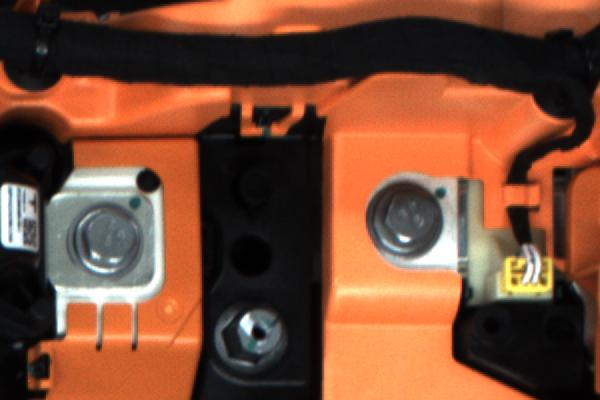nut_b: (357, 176, 440, 265), (66, 202, 149, 279)
